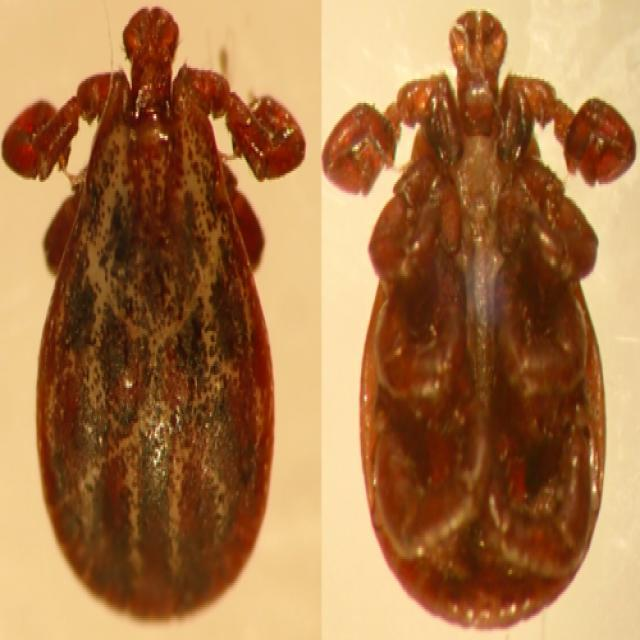Dermacentor Reticulatus-M: (1, 7, 308, 627)
